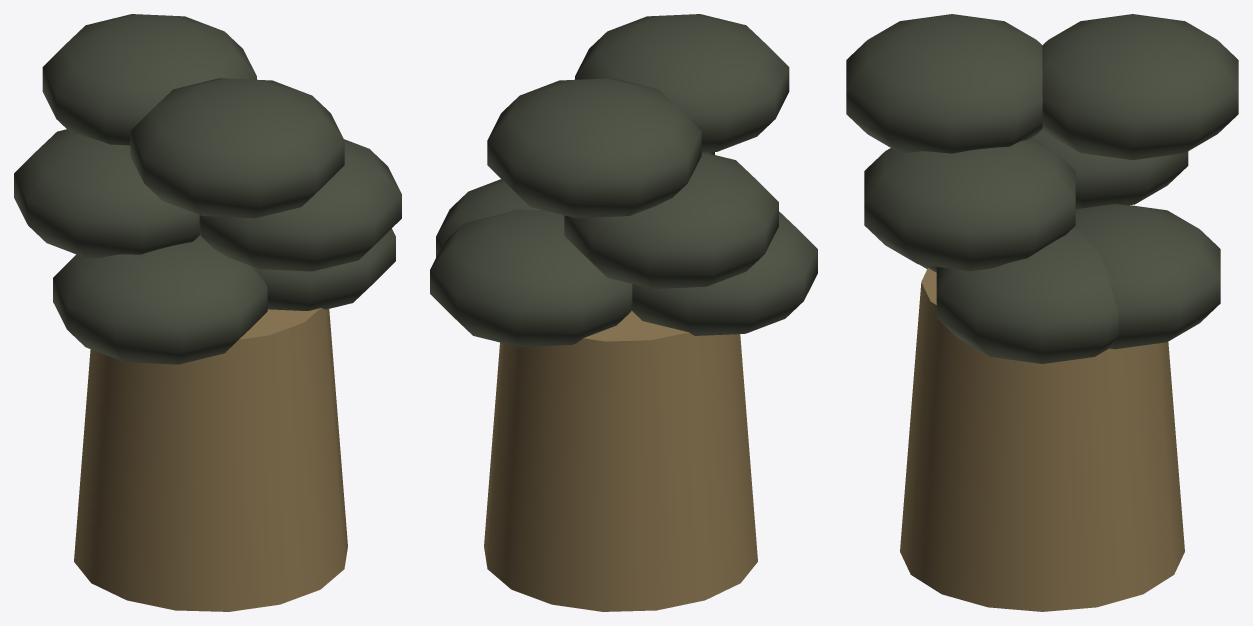
Rendered from vase.glb.
The picture shows the model from 3 angles, left to right: view 1: azimuth 30°, elevation 25°; view 2: azimuth 150°, elevation 25°; view 3: azimuth 270°, elevation 25°; orthographic projection. The views are drawn at different scales.
Parts seen in each view (by area): view 1: REF-L05-R01-vase-part-1, REF-L05-R01-vase-part-4, REF-L05-R01-vase-part-5, REF-L05-R01-vase-part-7, REF-L05-R01-vase-part-6, REF-L05-R01-vase-part-3, REF-L05-R01-vase-part-2; view 2: REF-L05-R01-vase-part-1, REF-L05-R01-vase-part-7, REF-L05-R01-vase-part-8, REF-L05-R01-vase-part-6, REF-L05-R01-vase-part-4, REF-L05-R01-vase-part-5, REF-L05-R01-vase-part-2; view 3: REF-L05-R01-vase-part-1, REF-L05-R01-vase-part-7, REF-L05-R01-vase-part-4, REF-L05-R01-vase-part-3, REF-L05-R01-vase-part-2, REF-L05-R01-vase-part-8, REF-L05-R01-vase-part-6.
Boxes of the visible parts, x1,y1,x2,y2 form: REF-L05-R01-vase-part-1: [74, 308, 347, 611]; REF-L05-R01-vase-part-4: [130, 78, 344, 218]; REF-L05-R01-vase-part-5: [53, 235, 267, 364]; REF-L05-R01-vase-part-7: [42, 14, 256, 145]; REF-L05-R01-vase-part-6: [14, 129, 200, 258]; REF-L05-R01-vase-part-3: [199, 139, 401, 271]; REF-L05-R01-vase-part-2: [256, 228, 395, 310]; REF-L05-R01-vase-part-1: [484, 310, 757, 611]; REF-L05-R01-vase-part-7: [487, 78, 701, 218]; REF-L05-R01-vase-part-8: [430, 209, 632, 347]; REF-L05-R01-vase-part-6: [564, 152, 778, 288]; REF-L05-R01-vase-part-4: [575, 14, 789, 152]; REF-L05-R01-vase-part-5: [631, 211, 817, 335]; REF-L05-R01-vase-part-2: [436, 179, 541, 257]; REF-L05-R01-vase-part-1: [900, 268, 1184, 611]; REF-L05-R01-vase-part-7: [1042, 14, 1238, 160]; REF-L05-R01-vase-part-4: [846, 14, 1042, 153]; REF-L05-R01-vase-part-3: [864, 137, 1075, 271]; REF-L05-R01-vase-part-2: [936, 227, 1118, 363]; REF-L05-R01-vase-part-8: [1074, 204, 1220, 349]; REF-L05-R01-vase-part-6: [1031, 129, 1188, 209].
Bounding box in the file's own units: 0.0783 × 0.1111 × 0.077.
